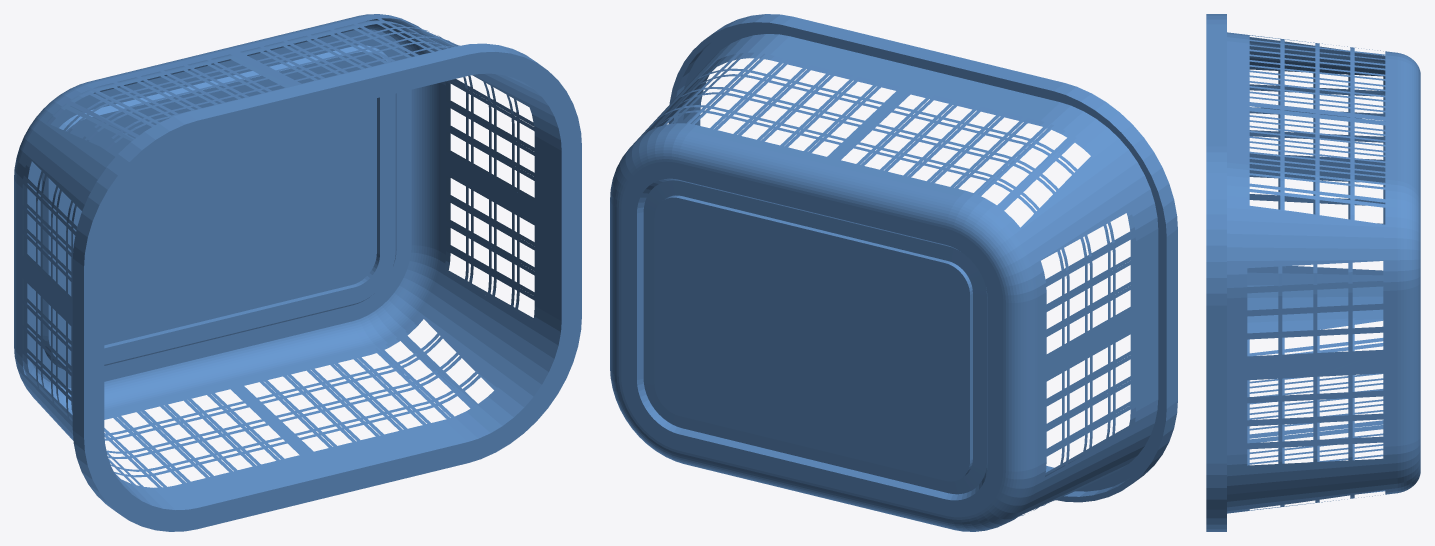
3 renders of one model, left to right at view 1: azimuth 30°, elevation 25°; view 2: azimuth 150°, elevation 25°; view 3: azimuth 270°, elevation 25°, orthographic. The views are drawn at different scales.
Parts seen in each view (by area): view 1: laundry basket high poly; view 2: laundry basket high poly; view 3: laundry basket high poly.
Part boxes in pixels (x1=…): laundry basket high poly: x1=14, y1=14, x2=581, y2=531; laundry basket high poly: x1=610, y1=14, x2=1177, y2=531; laundry basket high poly: x1=1206, y1=14, x2=1420, y2=531.
Bounding box in the file's own units: 24.88 × 19.51 × 10.11.
